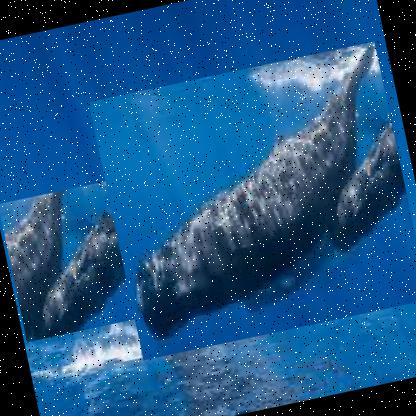sperm_whale: (87, 40, 415, 361), (0, 160, 226, 342)
